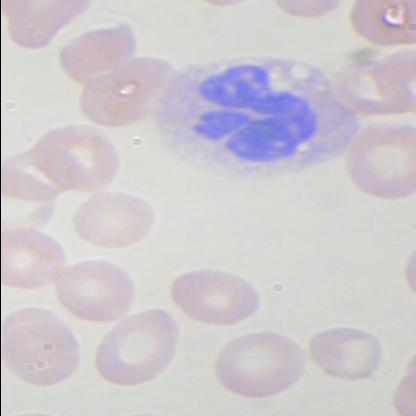RBC: (208, 325, 314, 405), (90, 308, 182, 394), (336, 117, 416, 209), (164, 259, 268, 329), (46, 250, 140, 326), (38, 113, 124, 194), (303, 310, 389, 388), (66, 189, 168, 248), (2, 320, 80, 392)
WBC: (145, 36, 367, 188)
